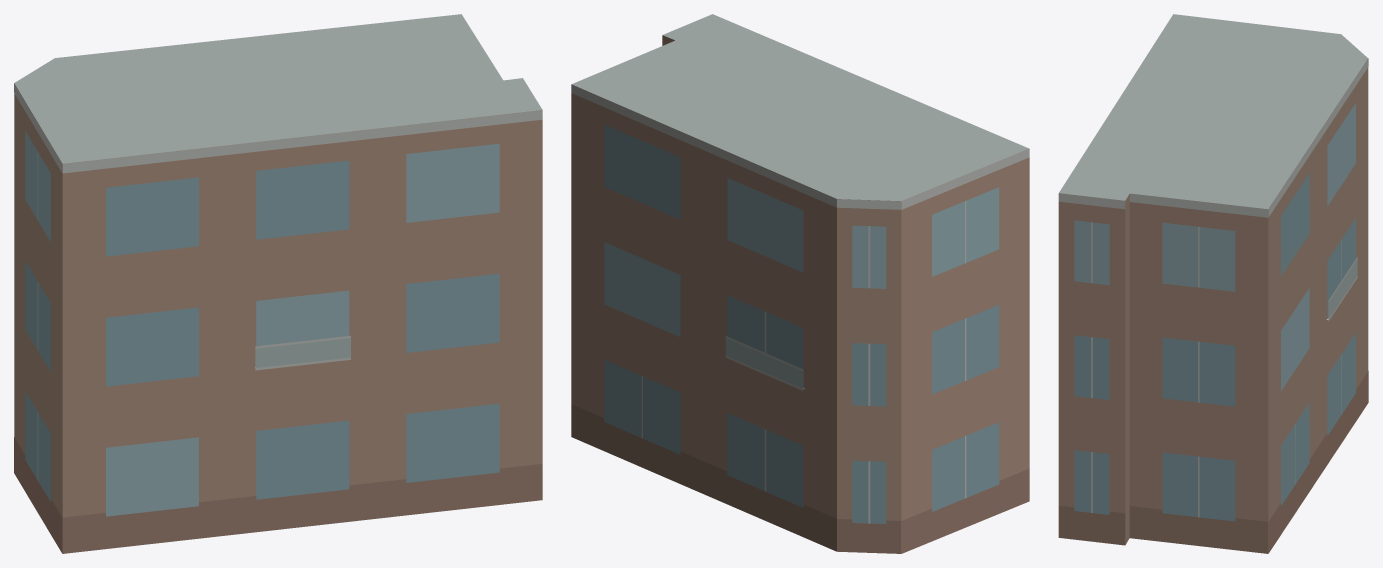
File: survey-upis-32492872.glb
3 renders of one model, left to right at view 1: azimuth 30°, elevation 25°; view 2: azimuth 150°, elevation 25°; view 3: azimuth 270°, elevation 25°, orthographic. The views are drawn at different scales.
Parts seen in each view (by area): view 1: survey-upis-32492872.tmp; view 2: survey-upis-32492872.tmp; view 3: survey-upis-32492872.tmp.
Boxes of the visible parts, <box> form: survey-upis-32492872.tmp: <box>14,14,542,553</box>; survey-upis-32492872.tmp: <box>571,14,1029,553</box>; survey-upis-32492872.tmp: <box>1058,14,1368,553</box>.
Size of the model in its own units: 11.98 by 9.85 by 8.03.
